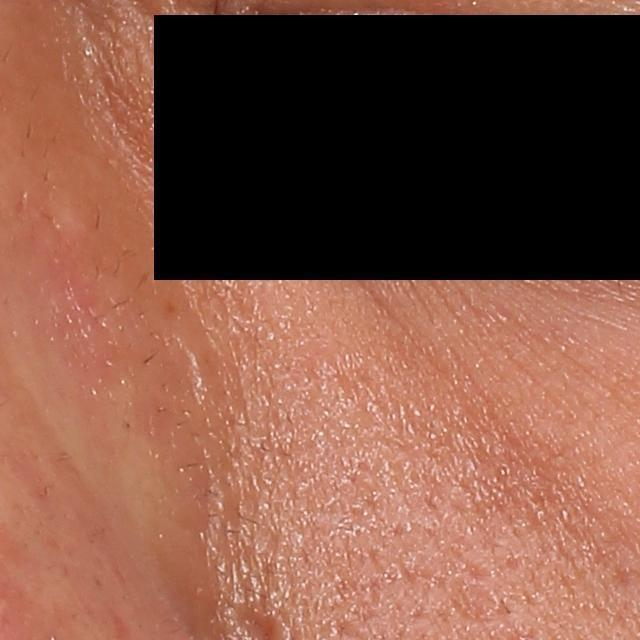hypertrophic_scar: (34, 168, 109, 253)
